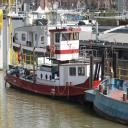tugboat: (4, 27, 120, 105)
